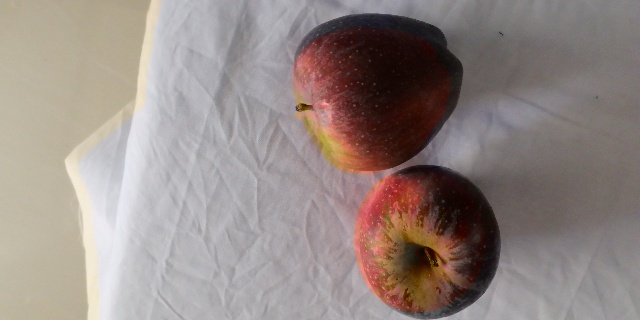apple_kashmir: (291, 13, 466, 174), (352, 166, 502, 316)
